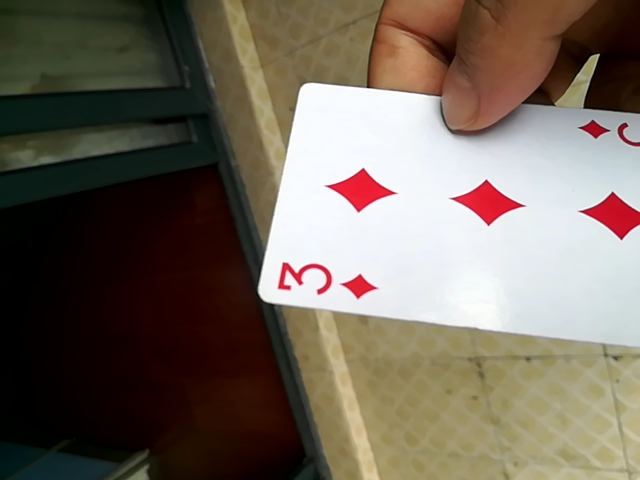fk 3: (249, 80, 636, 365)
